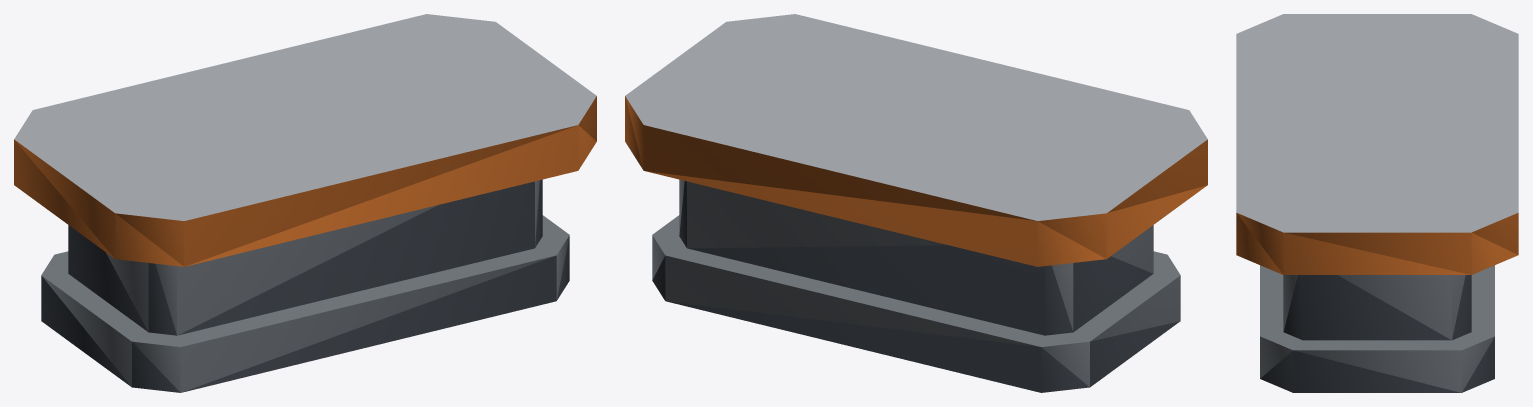
Rendered from Kit_table.fbx.
3 views of the same model, side by side, from view 1: azimuth 30°, elevation 25°; view 2: azimuth 150°, elevation 25°; view 3: azimuth 270°, elevation 25° (orthographic). The views are drawn at different scales.
Parts seen in each view (by area): view 1: Kit_table; view 2: Kit_table; view 3: Kit_table.
Boxes of the visible parts, x1,y1,x2,y2 form: Kit_table: (14, 14, 596, 392); Kit_table: (625, 14, 1207, 392); Kit_table: (1236, 14, 1518, 392).
Size of the model in its own units: 1.1 by 0.4 by 0.6.
